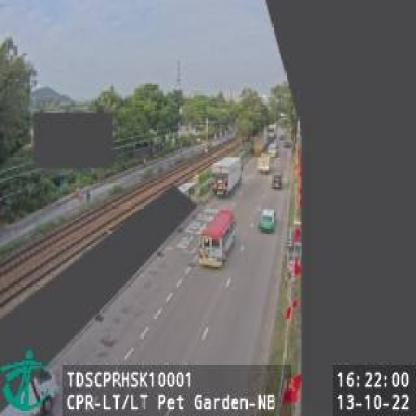Car: (258, 208, 277, 233), (272, 174, 284, 190)
Minibus: (198, 209, 236, 267)
Truck: (211, 152, 244, 200)
